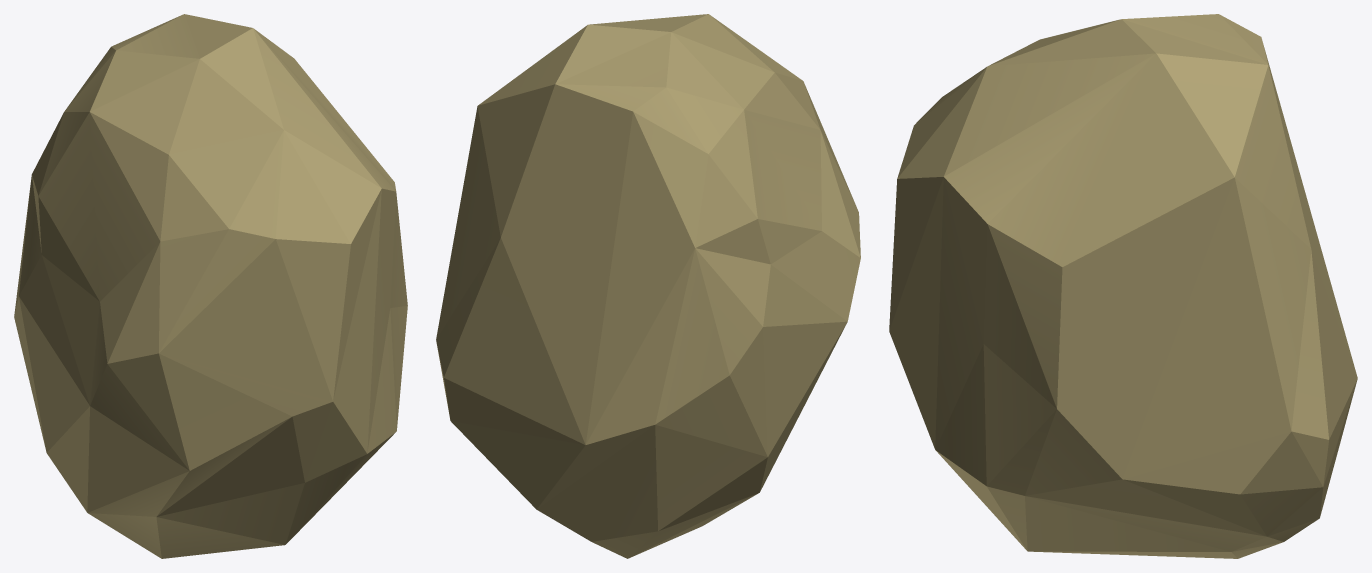
The model's file is SM_small_rock_07.fbx.
3 renders of one model, left to right at view 1: azimuth 30°, elevation 25°; view 2: azimuth 150°, elevation 25°; view 3: azimuth 270°, elevation 25°, orthographic. The views are drawn at different scales.
Visible parts, largest first — view 1: small_rock_07; view 2: small_rock_07; view 3: small_rock_07.
Part boxes in pixels (bbox=[...]): small_rock_07: bbox=[14, 14, 407, 558]; small_rock_07: bbox=[436, 14, 860, 558]; small_rock_07: bbox=[889, 14, 1357, 558].
Bounding box in the file's own units: 67.02 × 98.86 × 76.76.
